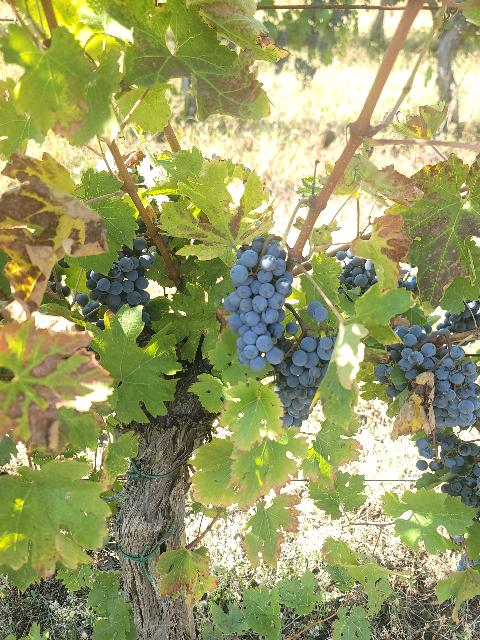grapes: (224, 236, 292, 372), (275, 336, 336, 428), (90, 236, 155, 312), (375, 325, 435, 396), (434, 345, 479, 429)
